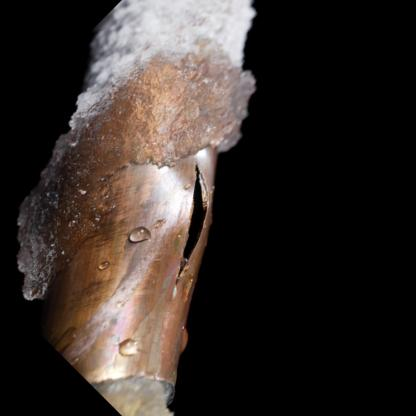burst: (162, 151, 248, 315)
